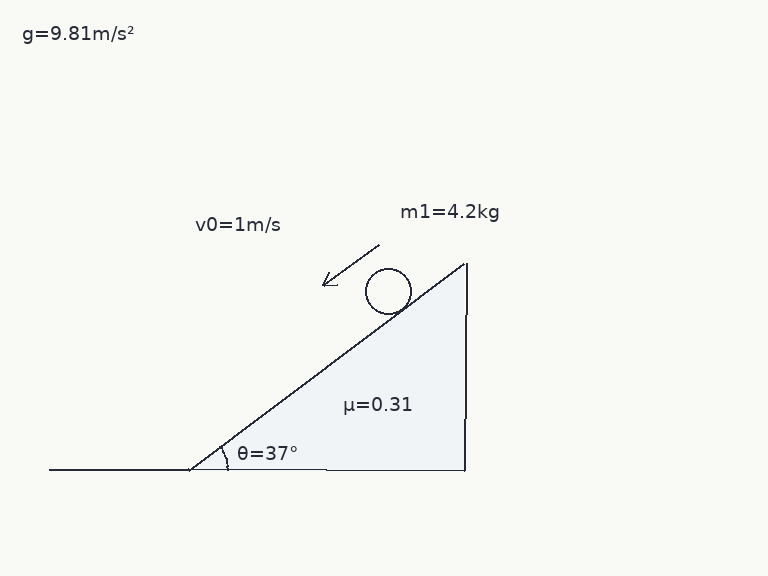ball: (363, 266, 413, 316)
ramp: (186, 260, 466, 472)
